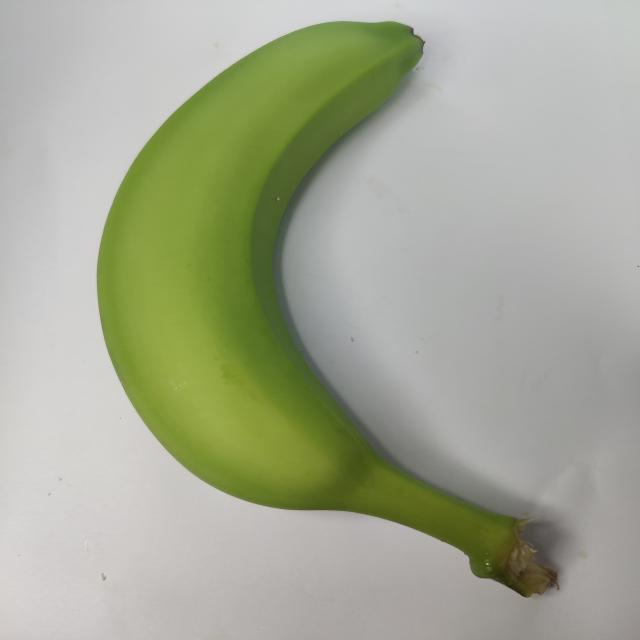raw: (56, 7, 608, 604)
